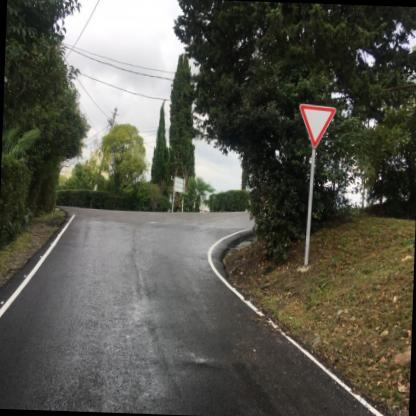road_sign: (300, 104, 335, 148)
